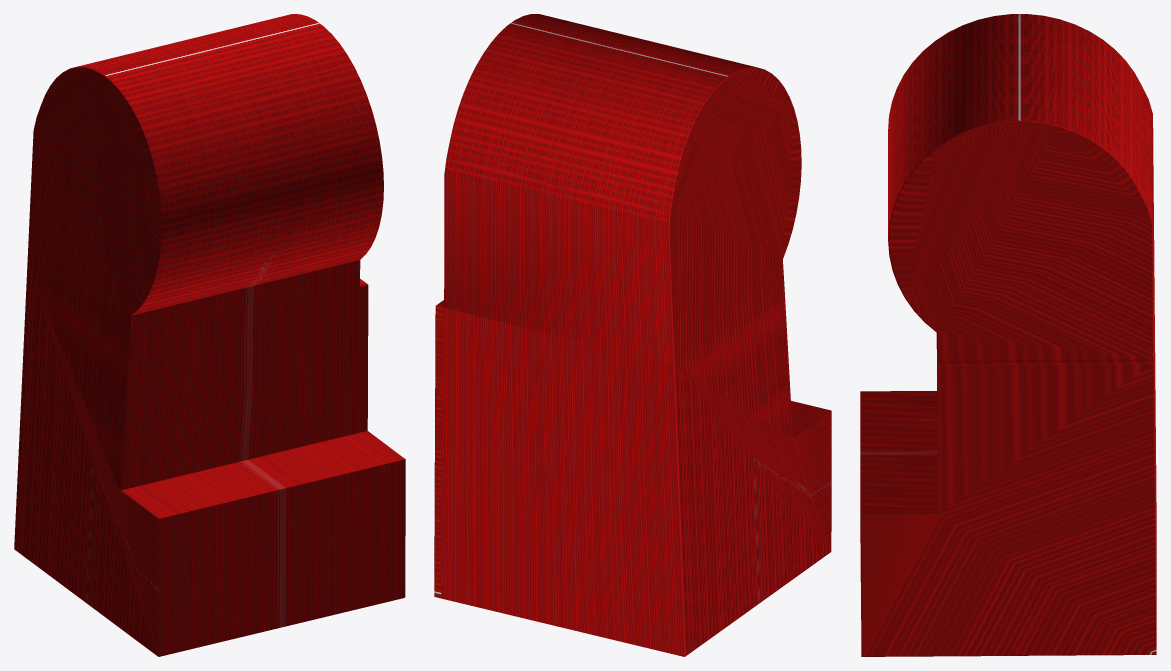
File: PieDerLego.obj
3 renders of one model, left to right at view 1: azimuth 30°, elevation 25°; view 2: azimuth 150°, elevation 25°; view 3: azimuth 270°, elevation 25°, orthographic. The views are drawn at different scales.
Visible parts, largest first — view 1: PieDerLego:PieDerecho; view 2: PieDerLego:PieDerecho; view 3: PieDerLego:PieDerecho.
Part boxes in pixels (box(x1,y1,x2,y2)): PieDerLego:PieDerecho: box(14, 14, 405, 656); PieDerLego:PieDerecho: box(434, 14, 831, 656); PieDerLego:PieDerecho: box(860, 14, 1156, 656).
Size of the model in its own units: 1.11 by 2.22 by 1.12.
Materials: 1 (1 with a texture image).
